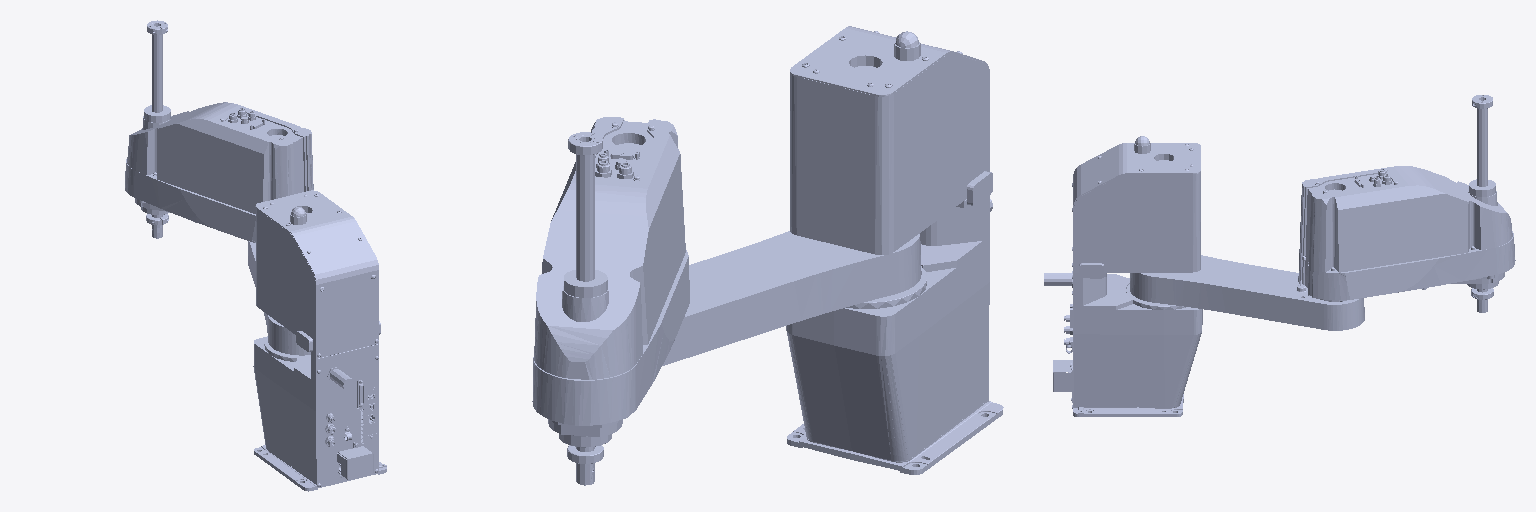
robot.urdf — scara:
<?xml version="1.0" encoding="utf-8" ?>
<!-- This URDF was automatically created by SolidWorks to URDF Exporter! Originally created by [author] ([email redacted])
     Commit Version: 1.5.1-0-g916b5db  Build Version: 1.5.7152.31018
     For more information, please see http://wiki.ros.org/sw_urdf_exporter -->
<robot name="scara">
    <link name="base_link">

<inertial>
            <origin xyz="-0.00011095 0.011706 0.22021" rpy="0 0 0" />
            <mass value="11.63" />
            <inertia ixx="0.26065" ixy="-0.00010475" ixz="8.587E-05" iyy="0.22933" iyz="-0.010595" izz="0.063336" />
        </inertial>

        <visual>
            <origin xyz="0 0 0" rpy="0 0 0" />
            <geometry>
                <mesh filename="package://scara/meshes/base_link.STL" />
            </geometry>
            <material name="">
                <color rgba="0.79216 0.81961 0.93333 1" />
            </material>
        </visual>
        <collision>
            <origin xyz="0 0 0" rpy="0 0 0" />
            <geometry>
                <mesh filename="package://scara/meshes/base_link.STL" />
            </geometry>
        </collision>
    </link>
    <link name="Link1">

<inertial>
            <origin xyz="0.14744 0.035552 -7.4228E-08" rpy="0 0 0" />
            <mass value="1.6797" />
            <inertia ixx="0.001999" ixy="0.00046658" ixz="2.0802E-08" iyy="0.019536" iyz="1.1689E-09" izz="0.018224" />
        </inertial>

        <visual>
            <origin xyz="0 0 0" rpy="0 0 0" />
            <geometry>
                <mesh filename="package://scara/meshes/Link1.STL" />
            </geometry>
            <material name="">
                <color rgba="0.79216 0.81961 0.93333 1" />
            </material>
        </visual>
        <collision>
            <origin xyz="0 0 0" rpy="0 0 0" />
            <geometry>
                <mesh filename="package://scara/meshes/Link1.STL" />
            </geometry>
        </collision>
    </link>
    <joint name="Joint1" type="revolute">
        <origin xyz="0 0.0625 0.191" rpy="1.5708 0 1.1826" />
        <parent link="base_link" />
        <child link="Link1" />
        <axis xyz="0 1 0" />
        <limit lower="-1.57" upper="2.5" effort="0" velocity="0" />
    </joint>
    <link name="Link2">

<inertial>
            <origin xyz="0.11966 0.1221 7.2579E-06" rpy="0 0 0" />
            <mass value="7.5355" />
            <inertia ixx="0.031732" ixy="0.0058572" ixz="6.1421E-06" iyy="0.083983" iyz="-3.6771E-06" izz="0.10023" />
        </inertial>

        <visual>
            <origin xyz="0 0 0" rpy="0 0 0" />
            <geometry>
                <mesh filename="package://scara/meshes/Link2.STL" />
            </geometry>
            <material name="">
                <color rgba="0.79216 0.81961 0.93333 1" />
            </material>
        </visual>
        <collision>
            <origin xyz="0 0 0" rpy="0 0 0" />
            <geometry>
                <mesh filename="package://scara/meshes/Link2.STL" />
            </geometry>
        </collision>
    </link>
    <joint name="Joint2" type="continuous">
        <origin xyz="0.325 0.028998 0" rpy="0 0.73996 0" />
        <parent link="Link1" />
        <child link="Link2" />
        <axis xyz="0 1 0" />
        <limit lower="0" upper="0" effort="0" velocity="0" />
    </joint>
    <link name="Link3">

<inertial>
            <origin xyz="-0.0001139 0.15798 3.8177E-05" rpy="0 0 0" />
            <mass value="0.083171" />
            <inertia ixx="0.0015219" ixy="-3.524E-08" ixz="-4.2008E-08" iyy="9.0892E-06" iyz="-2.8191E-08" izz="0.0015218" />
        </inertial>

        <visual>
            <origin xyz="0 0 0" rpy="0 0 0" />
            <geometry>
                <mesh filename="package://scara/meshes/Link3.STL" />
            </geometry>
            <material name="">
                <color rgba="0.79216 0.81961 0.93333 1" />
            </material>
        </visual>
        <collision>
            <origin xyz="0 0 0" rpy="0 0 0" />
            <geometry>
                <mesh filename="package://scara/meshes/Link3.STL" />
            </geometry>
        </collision>
    </link>
    <joint name="Joint3" type="prismatic">
        <origin xyz="0.275 0 0" rpy="3.1416 0.42498 3.1416" />
        <parent link="Link2" />
        <child link="Link3" />
        <axis xyz="0 1 0" />
        <limit lower="0" upper="-0.15" effort="0" velocity="0" />
    </joint>

<transmission name="trans_Joint1">
        <type>transmission_interface/SimpleTransmission</type>
        <joint name="Joint1">
            <hardwareInterface>hardware_interface/EffortJointInterface</hardwareInterface>
        </joint>
        <actuator name="Joint1_motor">
            <hardwareInterface>hardware_interface/EffortJointInterface</hardwareInterface>
            <mechanicalReduction>1</mechanicalReduction>
        </actuator>
    </transmission>
    <transmission name="trans_Joint2">
        <type>transmission_interface/SimpleTransmission</type>
        <joint name="Joint2">
            <hardwareInterface>hardware_interface/EffortJointInterface</hardwareInterface>
        </joint>
        <actuator name="Joint2_motor">
            <hardwareInterface>hardware_interface/EffortJointInterface</hardwareInterface>
            <mechanicalReduction>1</mechanicalReduction>
        </actuator>
    </transmission>
    <transmission name="trans_Joint3">
        <type>transmission_interface/SimpleTransmission</type>
        <joint name="Joint3">
            <hardwareInterface>hardware_interface/EffortJointInterface</hardwareInterface>
        </joint>
        <actuator name="Joint3_motor">
            <hardwareInterface>hardware_interface/EffortJointInterface</hardwareInterface>
            <mechanicalReduction>1</mechanicalReduction>
        </actuator>
    </transmission>
    <gazebo>
        <plugin name="gazebo_ros_control" filename="libgazebo_ros_control.so">
            <robotNamespace>/</robotNamespace>
        </plugin>
    </gazebo>
</robot>

--- Render facts (derived) ---
The picture shows the robot from 3 angles, left to right: view 1: azimuth 30°, elevation 25°; view 2: azimuth 150°, elevation 25°; view 3: azimuth 270°, elevation 25°; orthographic projection.
Model scara with 4 links and 3 joints (1 revolute, 1 continuous, 1 prismatic), rooted at base_link, posed all joints at 0.
Visible links, largest first — view 1: base_link, Link2, Link3, Link1; view 2: base_link, Link2, Link1, Link3; view 3: base_link, Link2, Link1, Link3.
Link boxes in pixels (x1=…): base_link: x1=253, y1=190, x2=386, y2=491; Link2: x1=125, y1=102, x2=313, y2=242; Link3: x1=146, y1=20, x2=168, y2=238; Link1: x1=248, y1=241, x2=310, y2=355; base_link: x1=786, y1=26, x2=1003, y2=474; Link2: x1=532, y1=117, x2=689, y2=447; Link1: x1=662, y1=231, x2=921, y2=365; Link3: x1=567, y1=132, x2=603, y2=485; base_link: x1=1044, y1=136, x2=1202, y2=416; Link2: x1=1298, y1=166, x2=1515, y2=302; Link1: x1=1130, y1=255, x2=1364, y2=330; Link3: x1=1471, y1=95, x2=1493, y2=312.
Size in the robot's own frame: 0.2721 by 0.8269 by 0.5905 metres.
4 mesh visuals loaded from 4 distinct referenced files (4 binary STL).